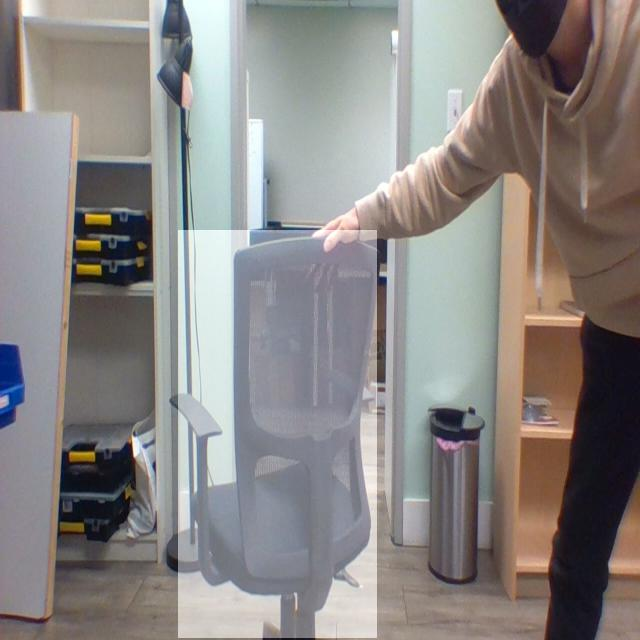black-chair: (178, 230, 378, 639)
